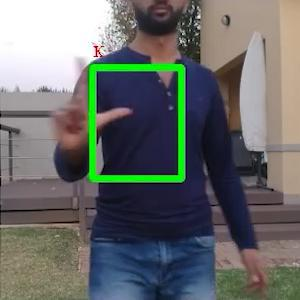land_hand: (36, 49, 130, 168)
